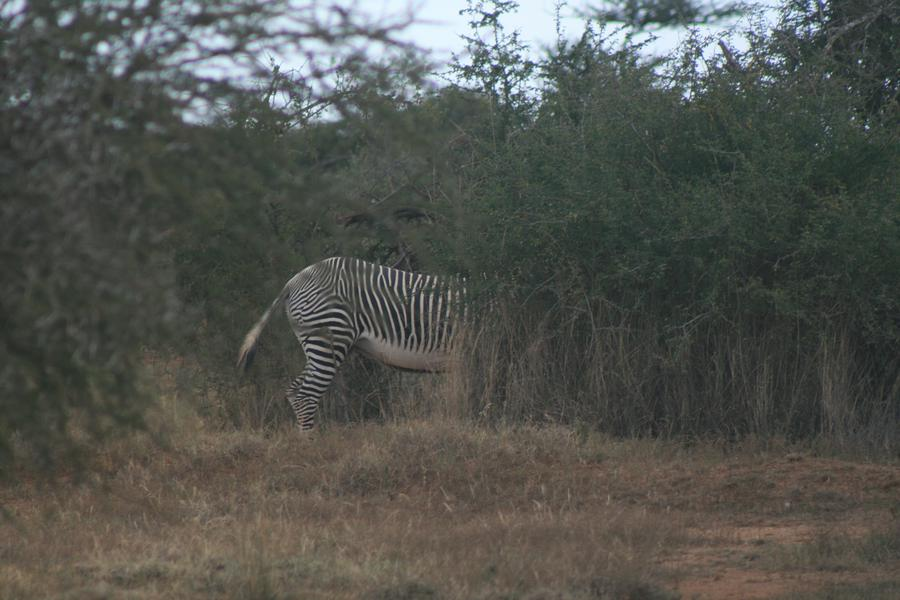zebra_grevys: (277, 239, 450, 364)
